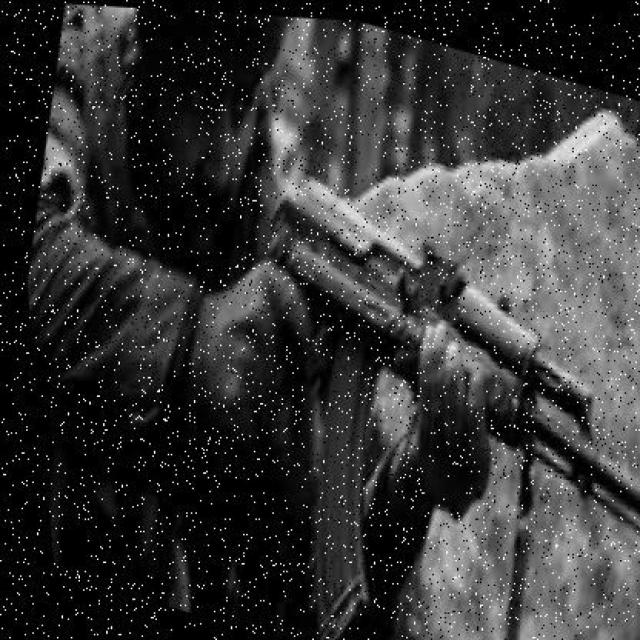weapon: (256, 174, 638, 638)
